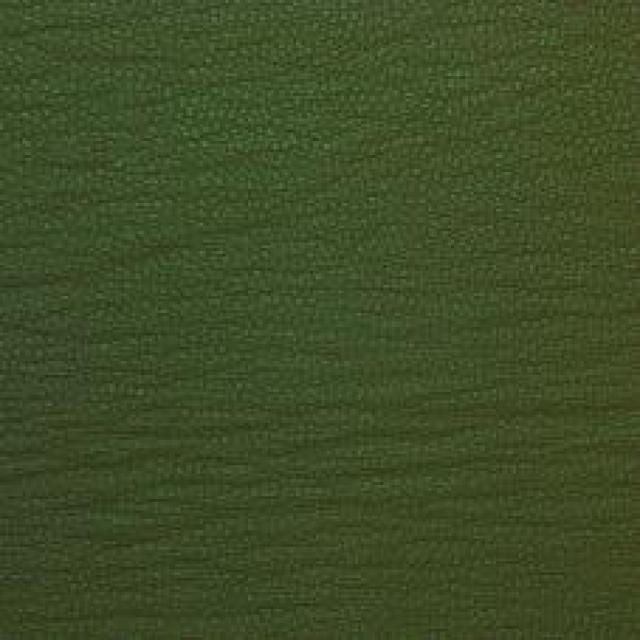Growth Marks: (128, 428, 519, 550), (17, 201, 229, 337)
